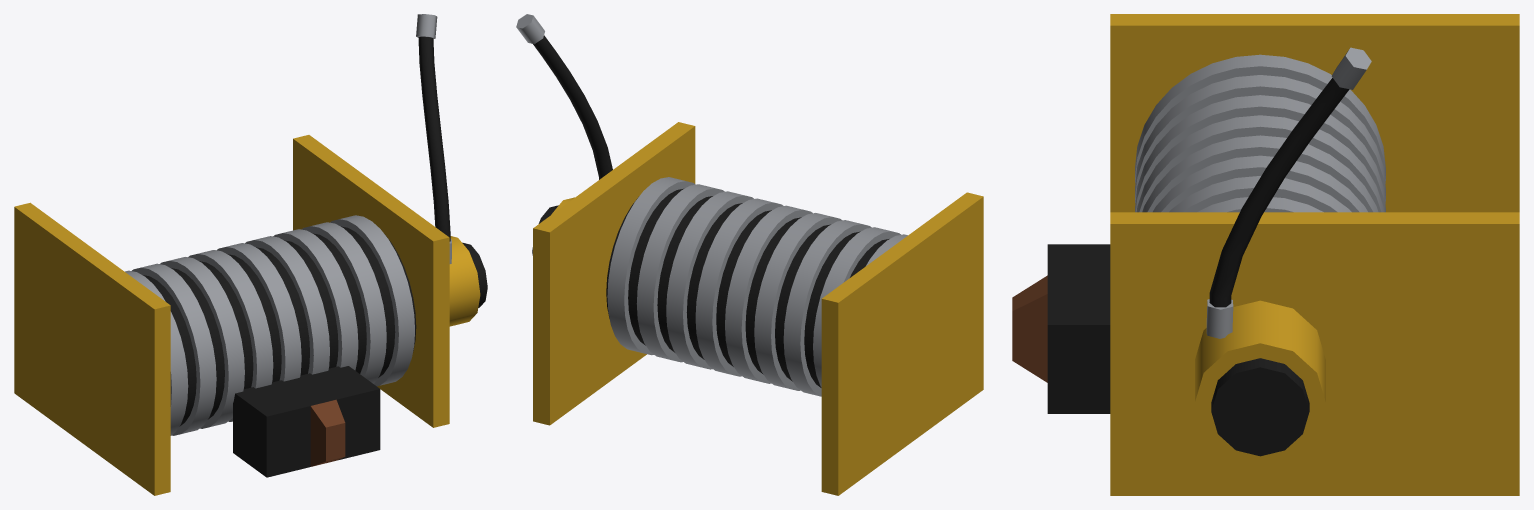
File: trh_winch.obj
3 views of the same model, side by side, from view 1: azimuth 30°, elevation 25°; view 2: azimuth 150°, elevation 25°; view 3: azimuth 270°, elevation 25° (orthographic). The views are drawn at different scales.
Visible parts, largest first — view 1: trh_winch; view 2: trh_winch; view 3: trh_winch.
Part boxes in pixels (x1,y1,x2,y2): trh_winch: (14,14,487,495); trh_winch: (516,14,983,495); trh_winch: (1012,14,1519,495).
Size of the model in its own units: 2.27 by 1.98 by 1.86.
